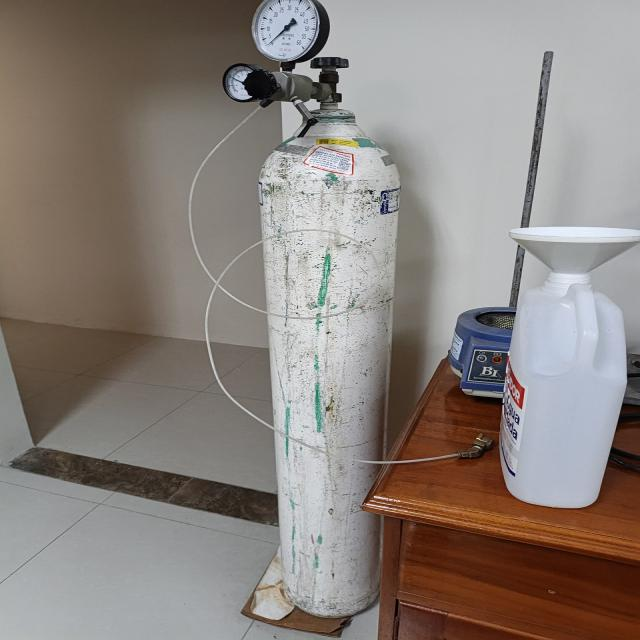Agitador de Tubos - Mezclador Vortex: (224, 0, 399, 622)
